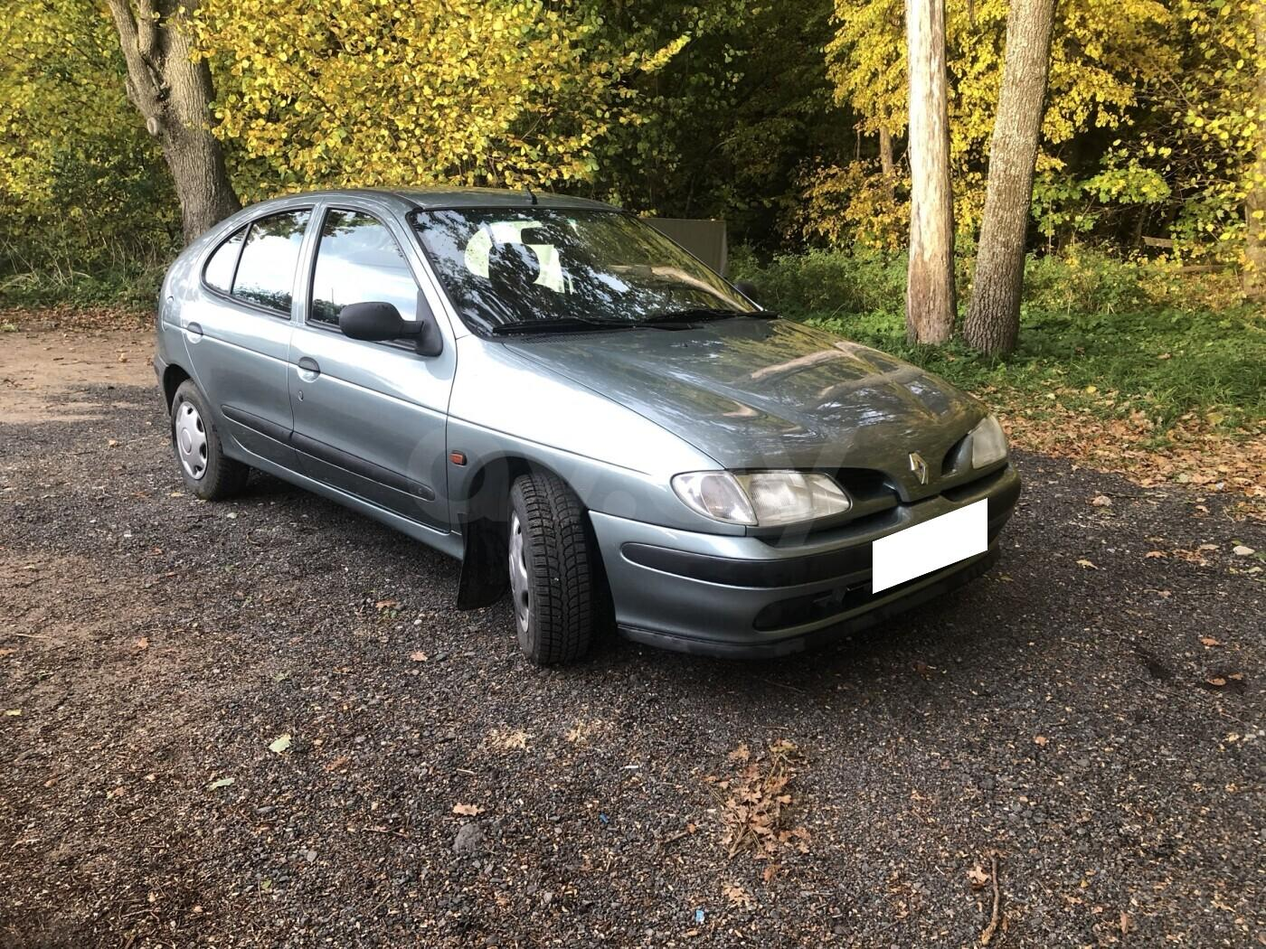Megane_1995-1999: (161, 190, 1021, 657)
